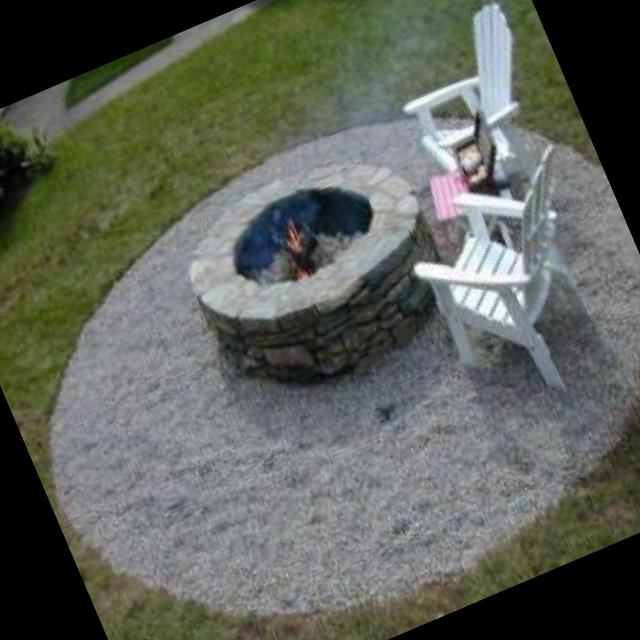fire: (276, 214, 318, 273)
